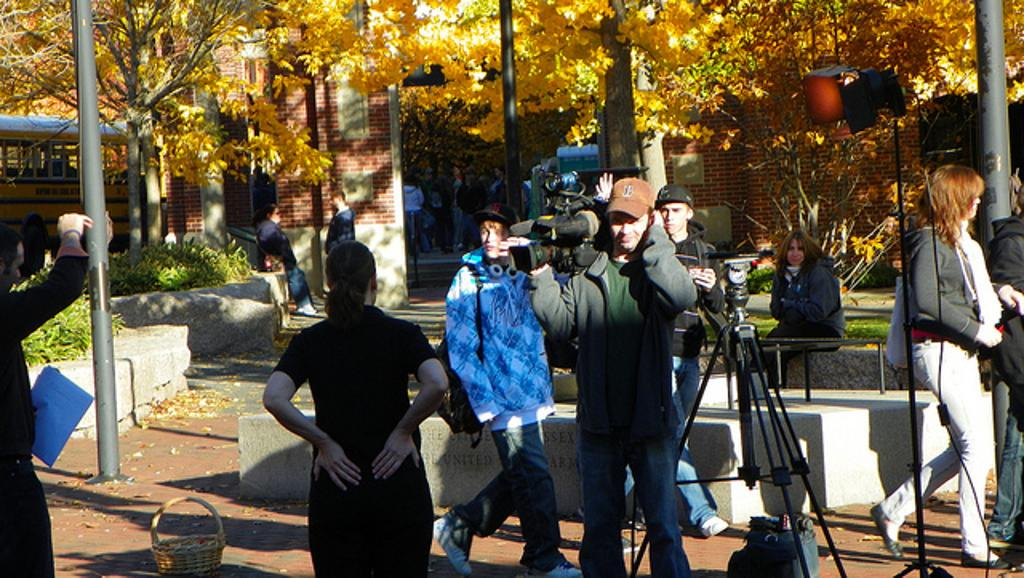face: (608, 204, 645, 250), (480, 220, 503, 258), (659, 201, 685, 233), (961, 184, 980, 217), (786, 241, 804, 265)
